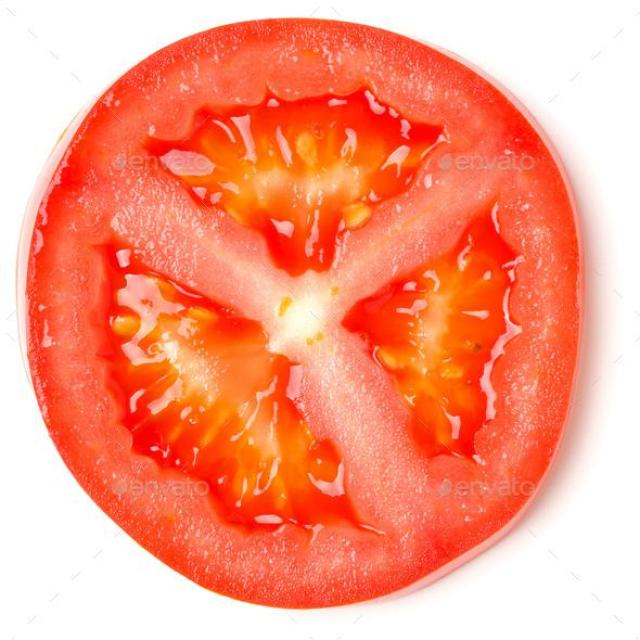Tomato: (26, 16, 586, 606)
